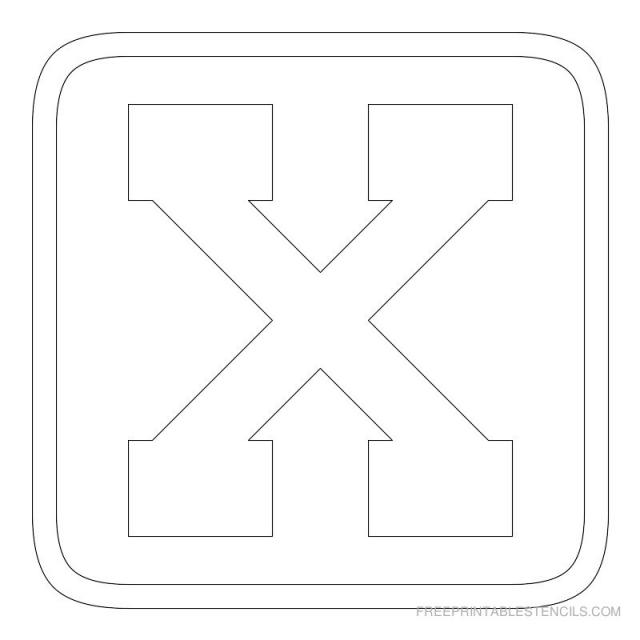X: (97, 71, 541, 552)
